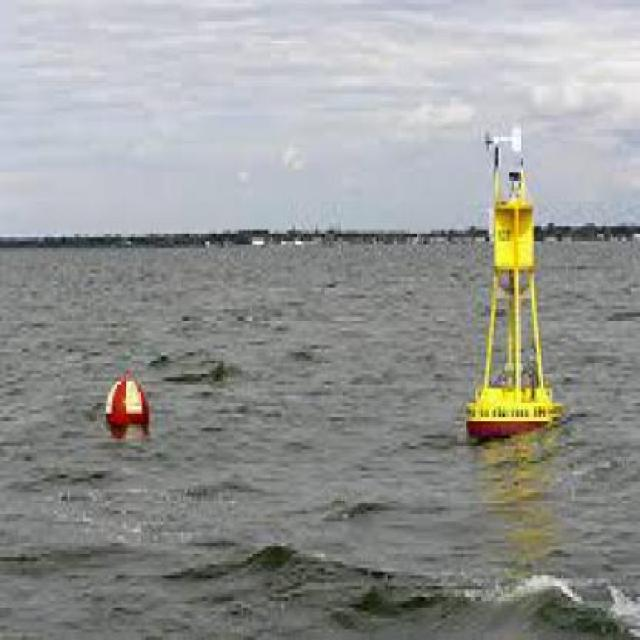buoy: (458, 109, 569, 455)
